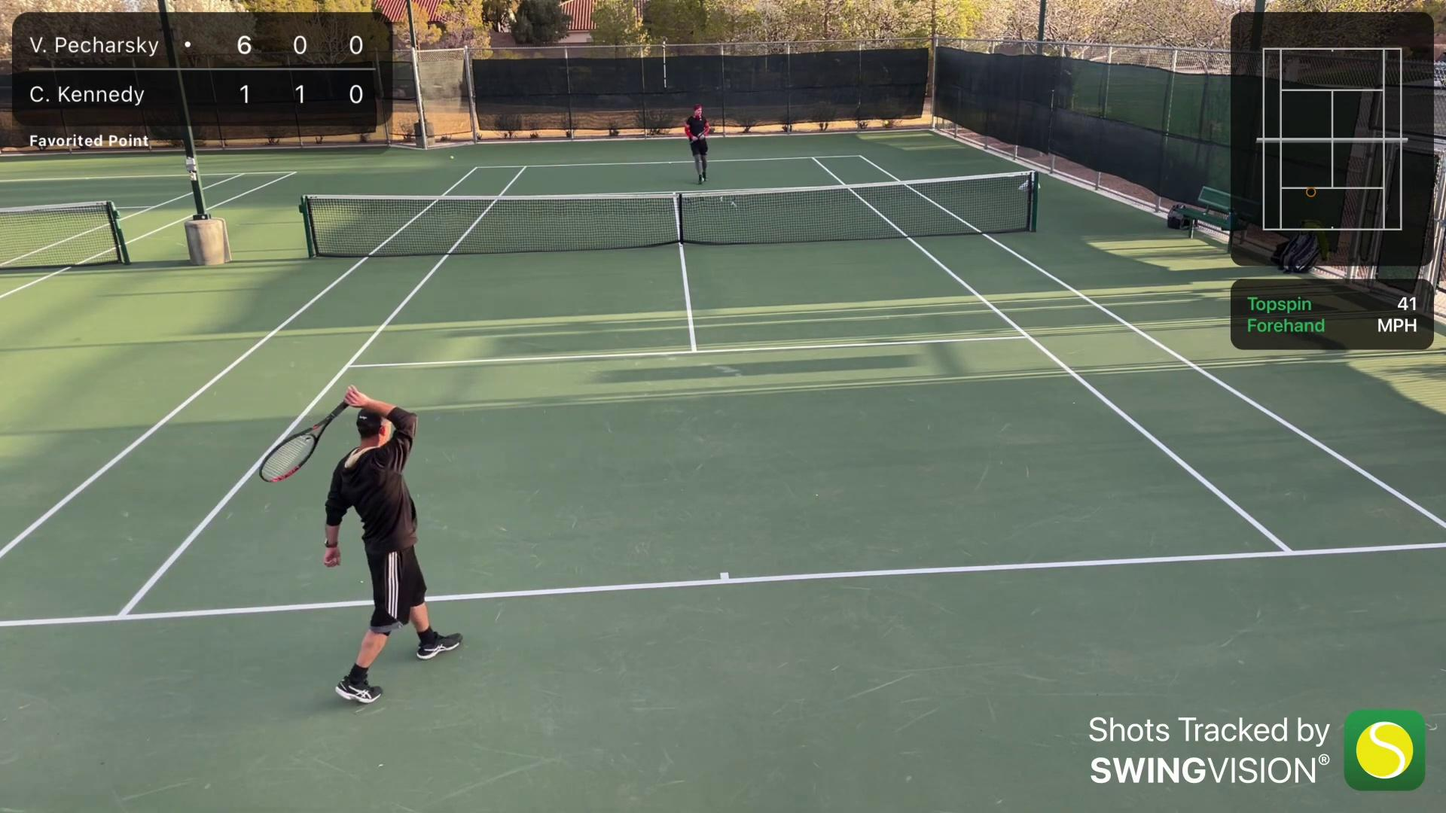ball: (884, 119, 889, 127), (449, 154, 455, 160)
